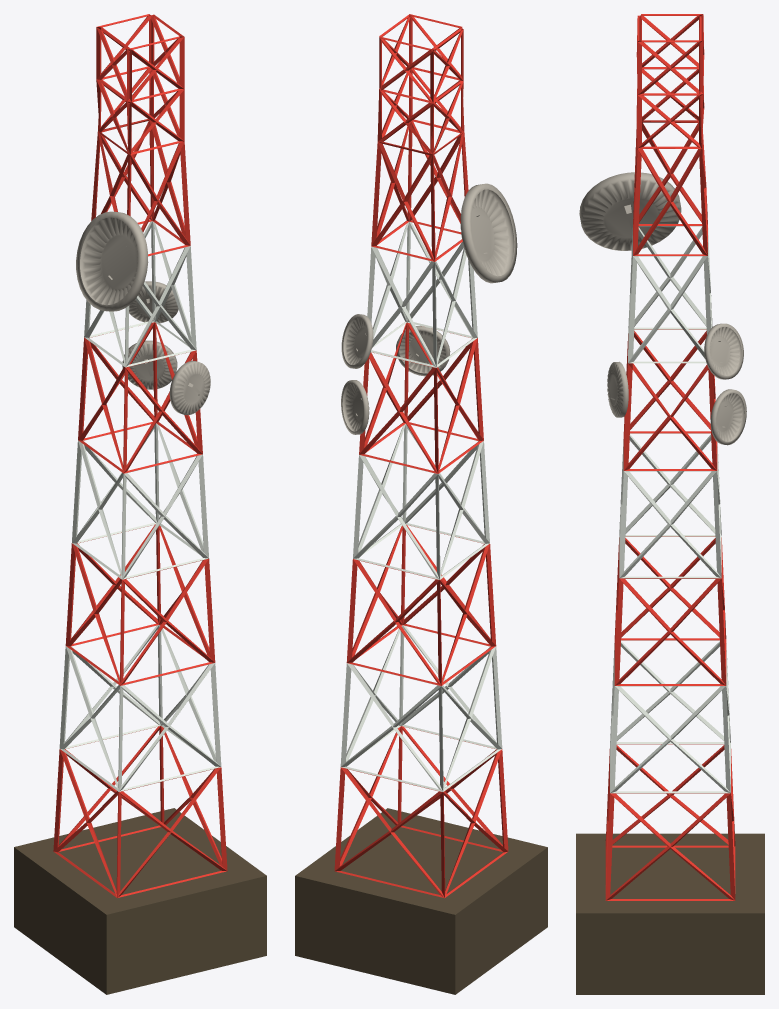
The model's file is radiotower.glb.
The picture shows the model from 3 angles, left to right: view 1: azimuth 30°, elevation 25°; view 2: azimuth 150°, elevation 25°; view 3: azimuth 270°, elevation 25°; orthographic projection. The views are drawn at different scales.
Parts seen in each view (by area): view 1: Cube; view 2: Cube; view 3: Cube.
Part boxes in pixels (x1=…): Cube: x1=14, y1=14, x2=266, y2=994; Cube: x1=295, y1=14, x2=547, y2=994; Cube: x1=576, y1=14, x2=764, y2=994.
Bounding box in the file's own units: 7.65 × 41.48 × 7.65.
